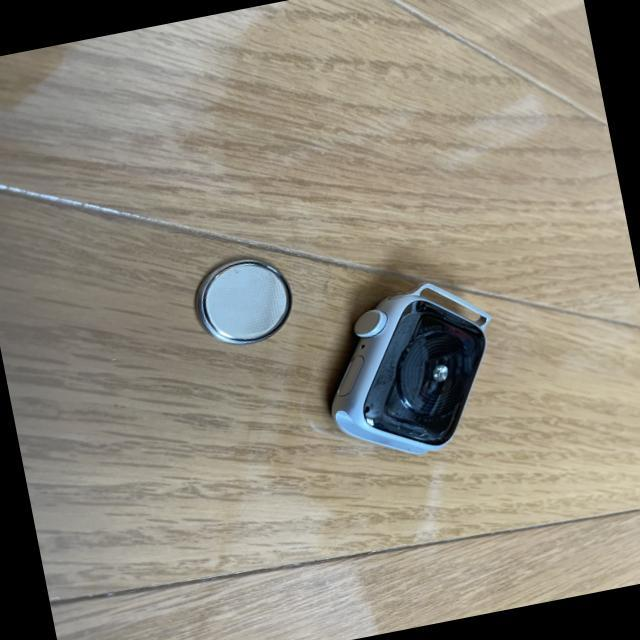COIN: (185, 250, 298, 353)
